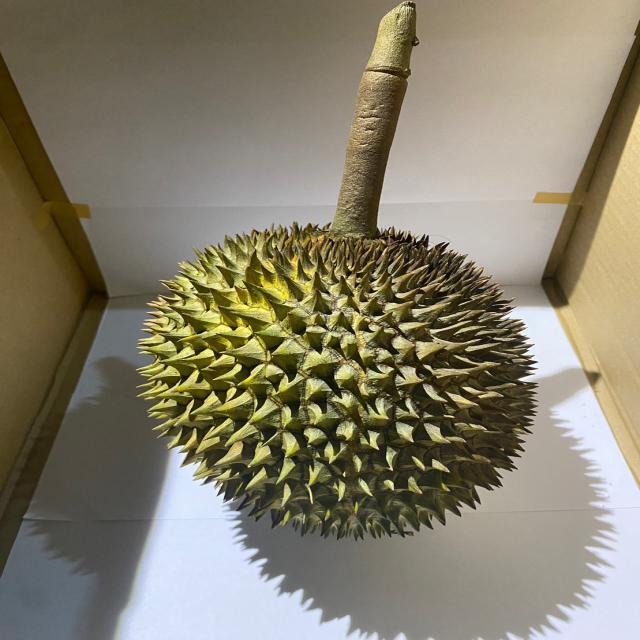immature: (132, 220, 543, 541)
